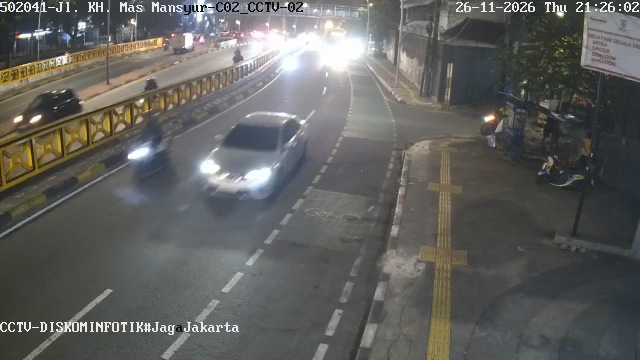Gerobak: (480, 92, 592, 187)
